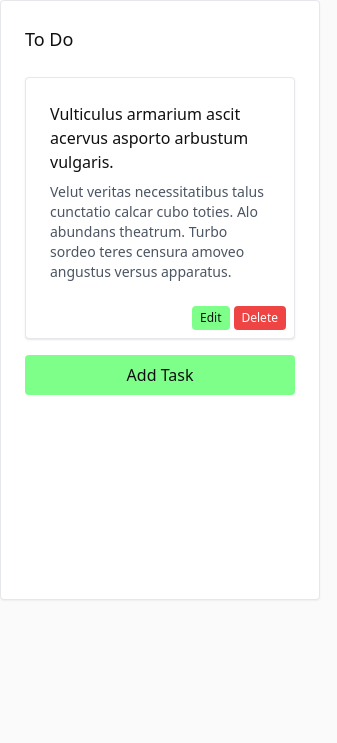
Test case: actions › hides task form when cancel is clicked
Click the button "Add Task" at (160, 375), box [25,355,295,395]
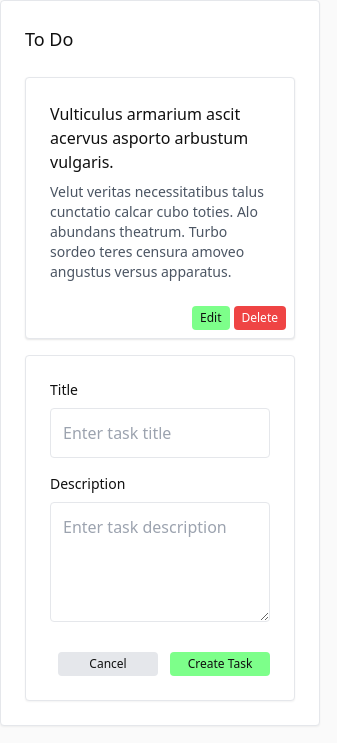
Click the button "Cancel" at (108, 664), box [58,652,158,676]
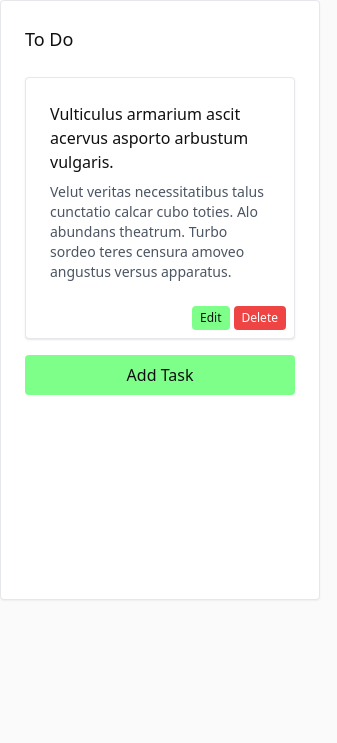
Expected: the form with test id "task-form" is gone
